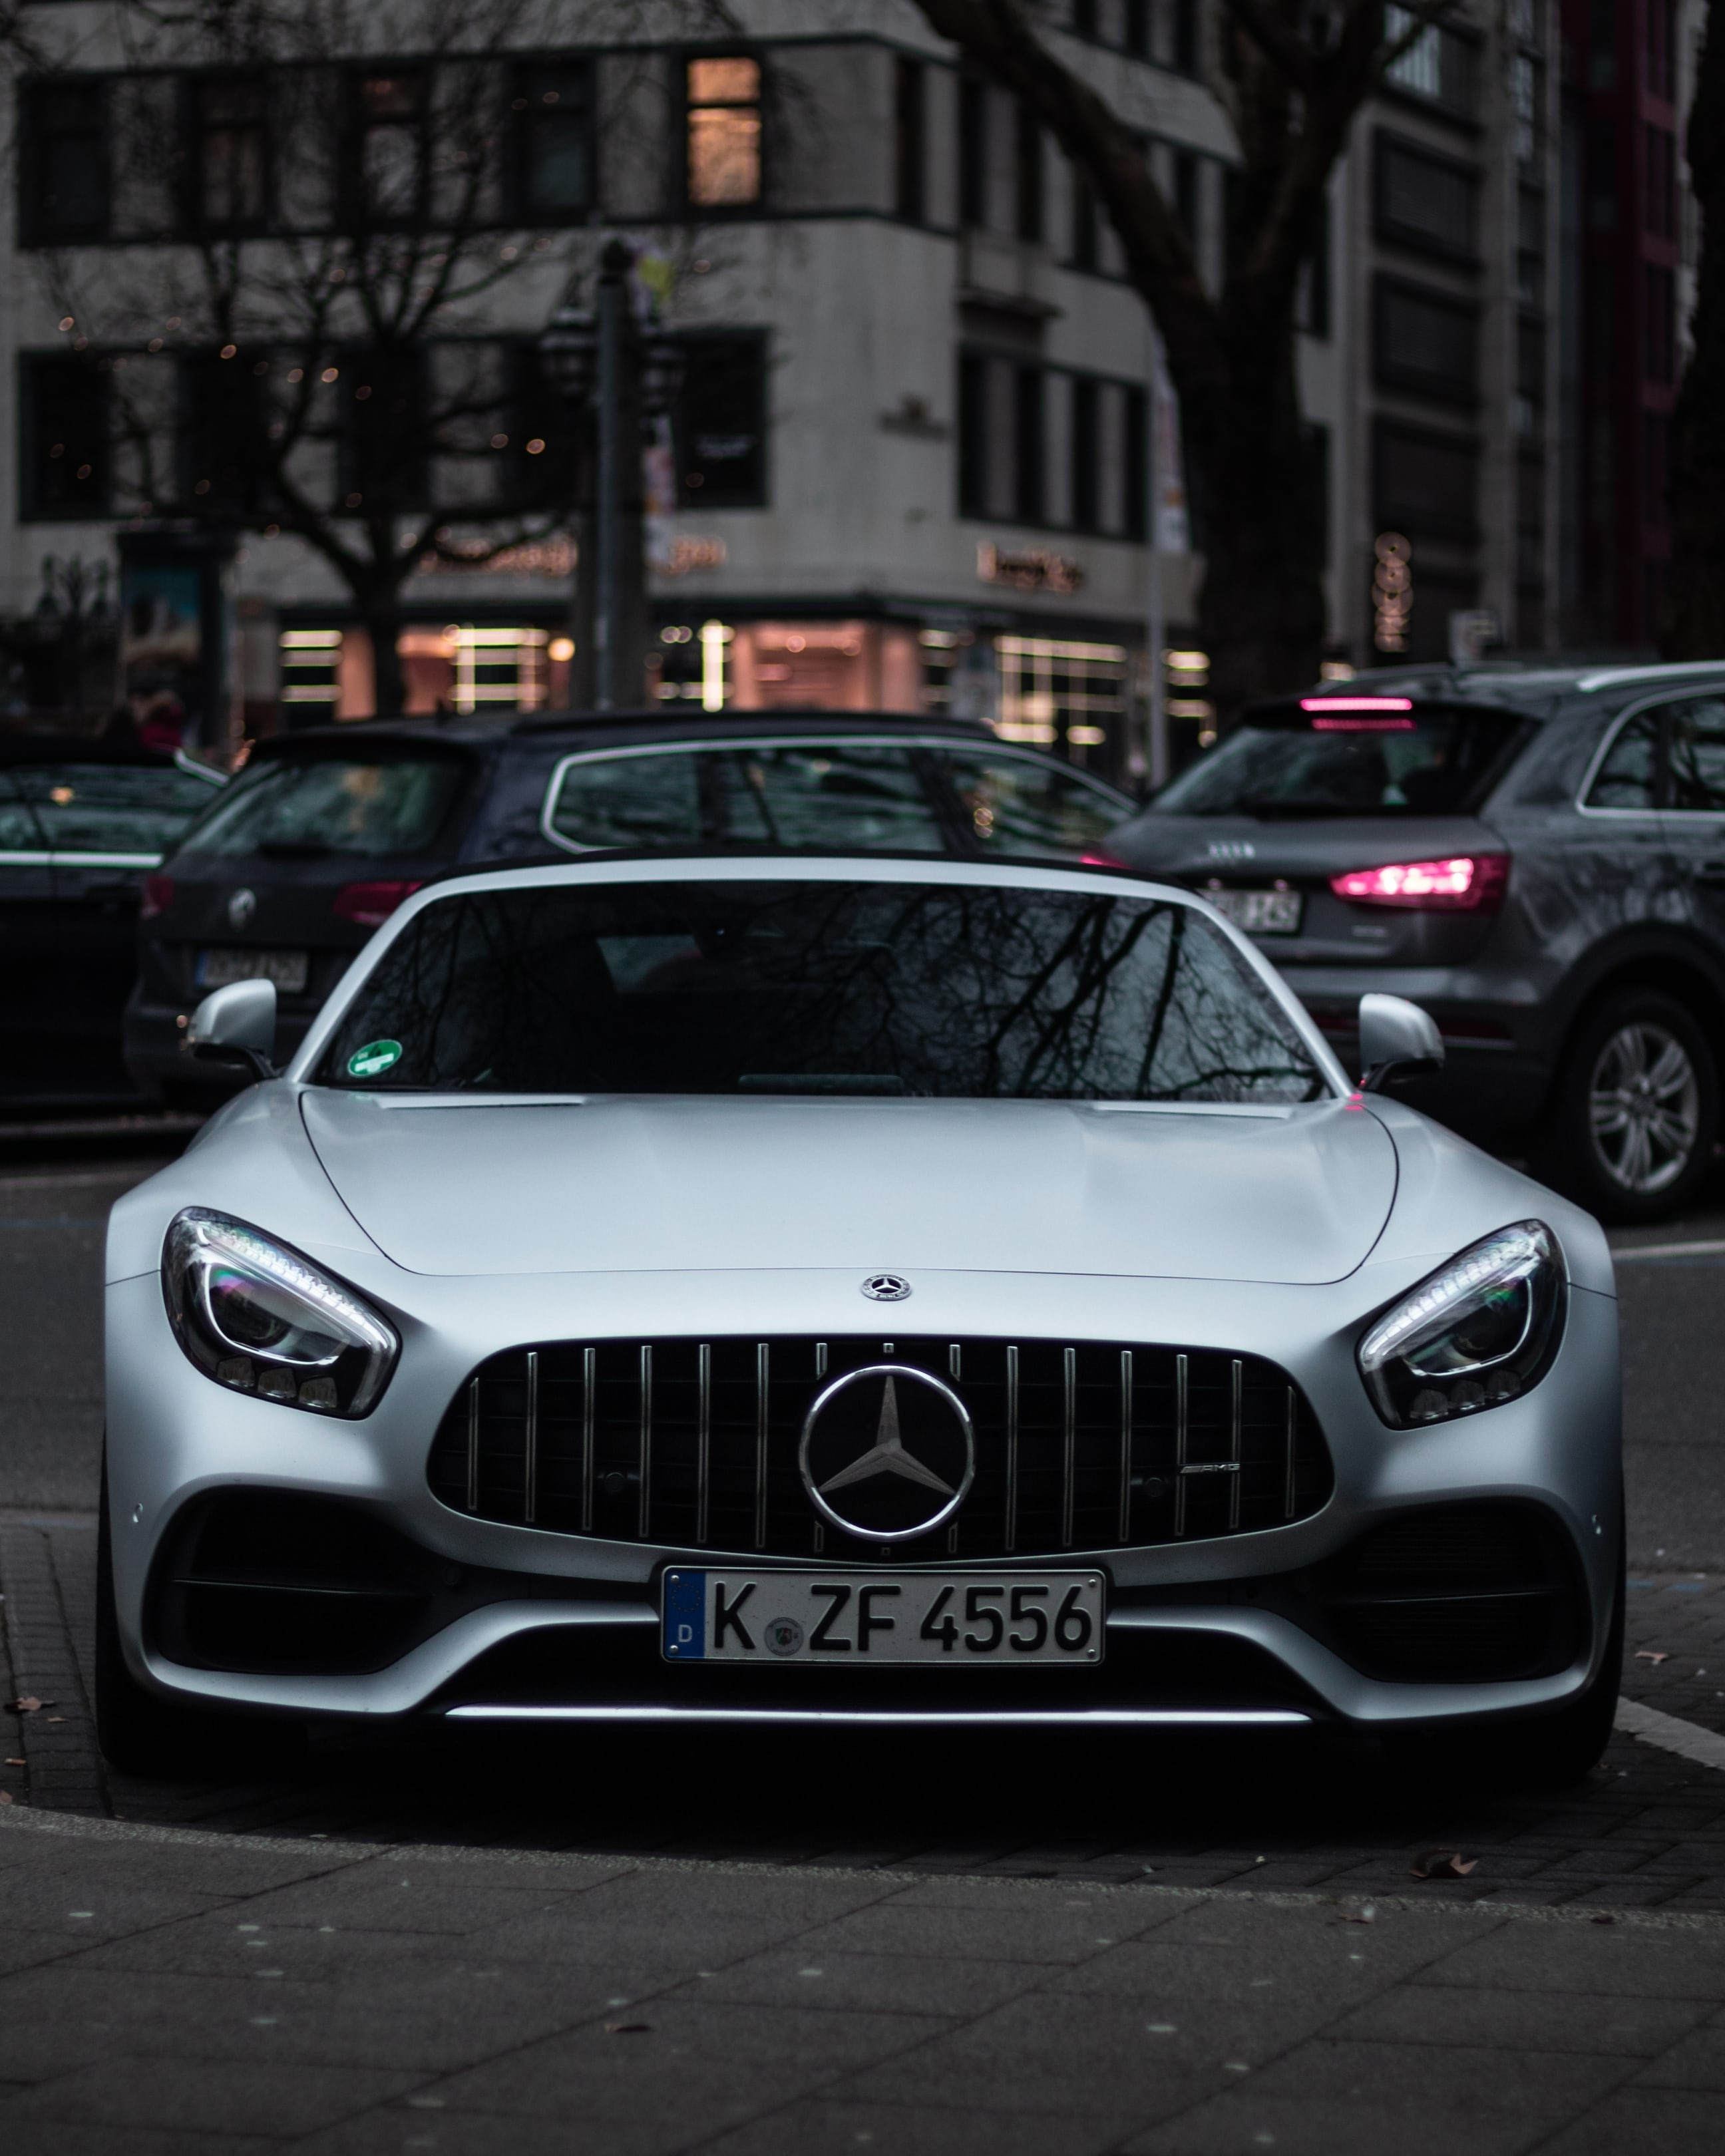plaka: (657, 1563, 1109, 1670)
